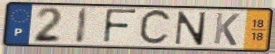2: (34, 6, 66, 44)
C: (137, 8, 174, 48)
F: (102, 8, 139, 46)
I: (74, 6, 90, 45)
K: (212, 12, 242, 48)
N: (173, 10, 209, 47)
